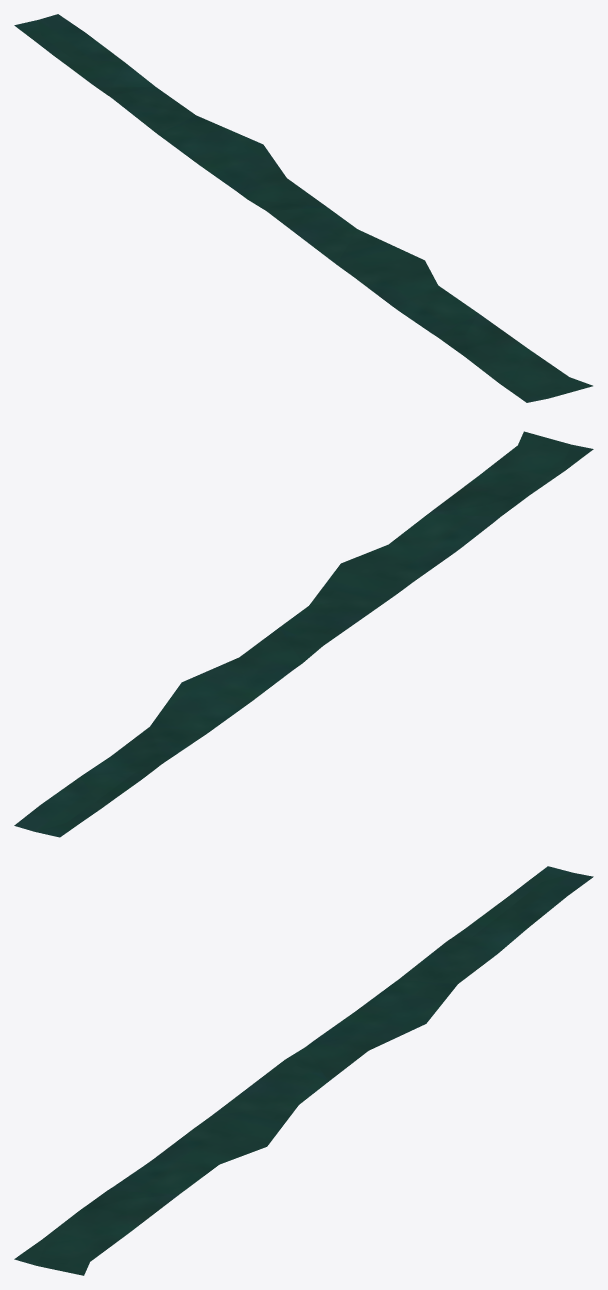
3 renders of one model, top to bottom at view 1: azimuth 30°, elevation 25°; view 2: azimuth 150°, elevation 25°; view 3: azimuth 330°, elevation 25°, orthographic. The views are drawn at different scales.
Size of the model in its own units: 4.15 by 0.3026 by 52.22.
Materials: 1 (1 with a texture image).
